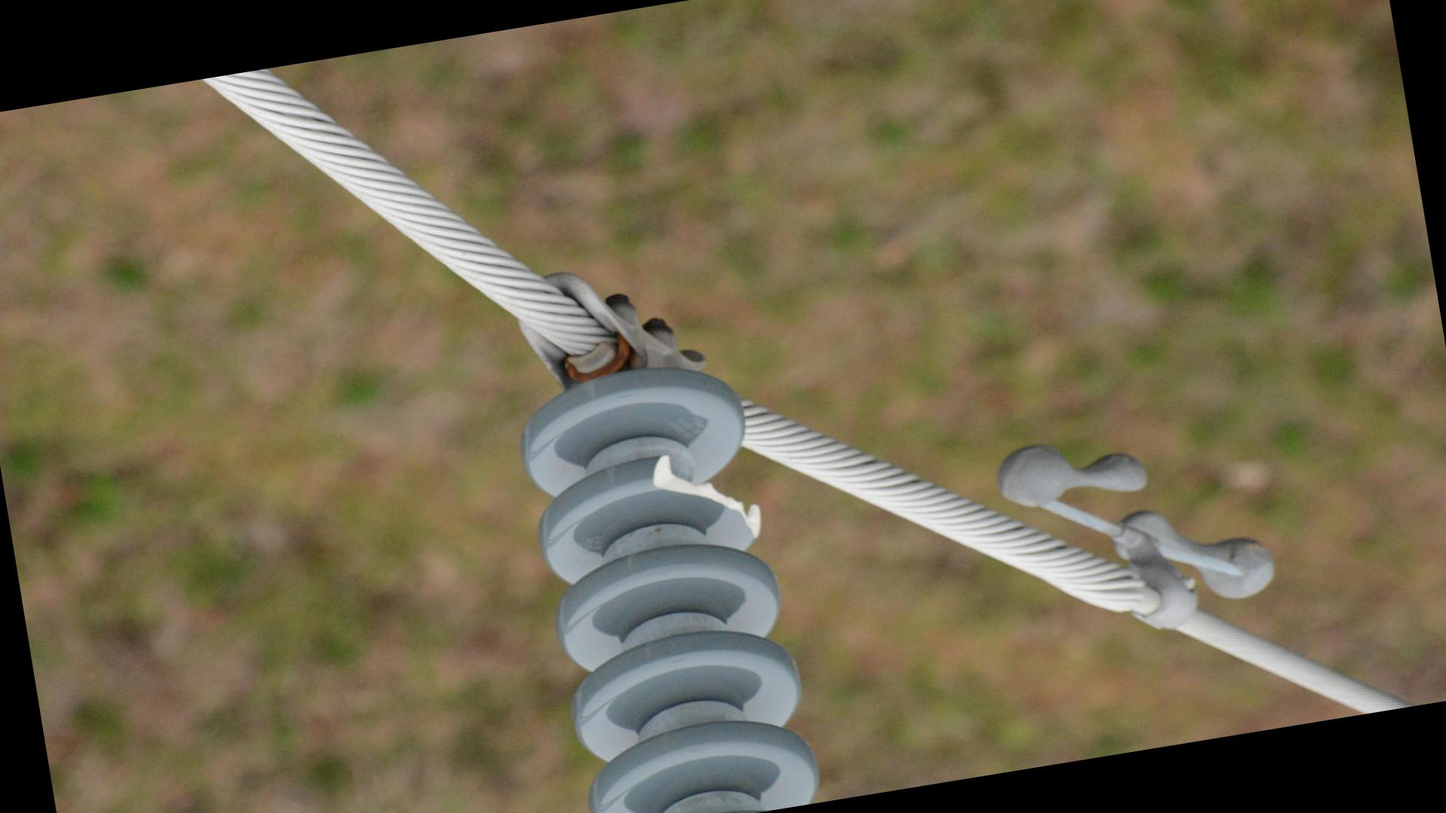damper: (984, 402, 1289, 661)
